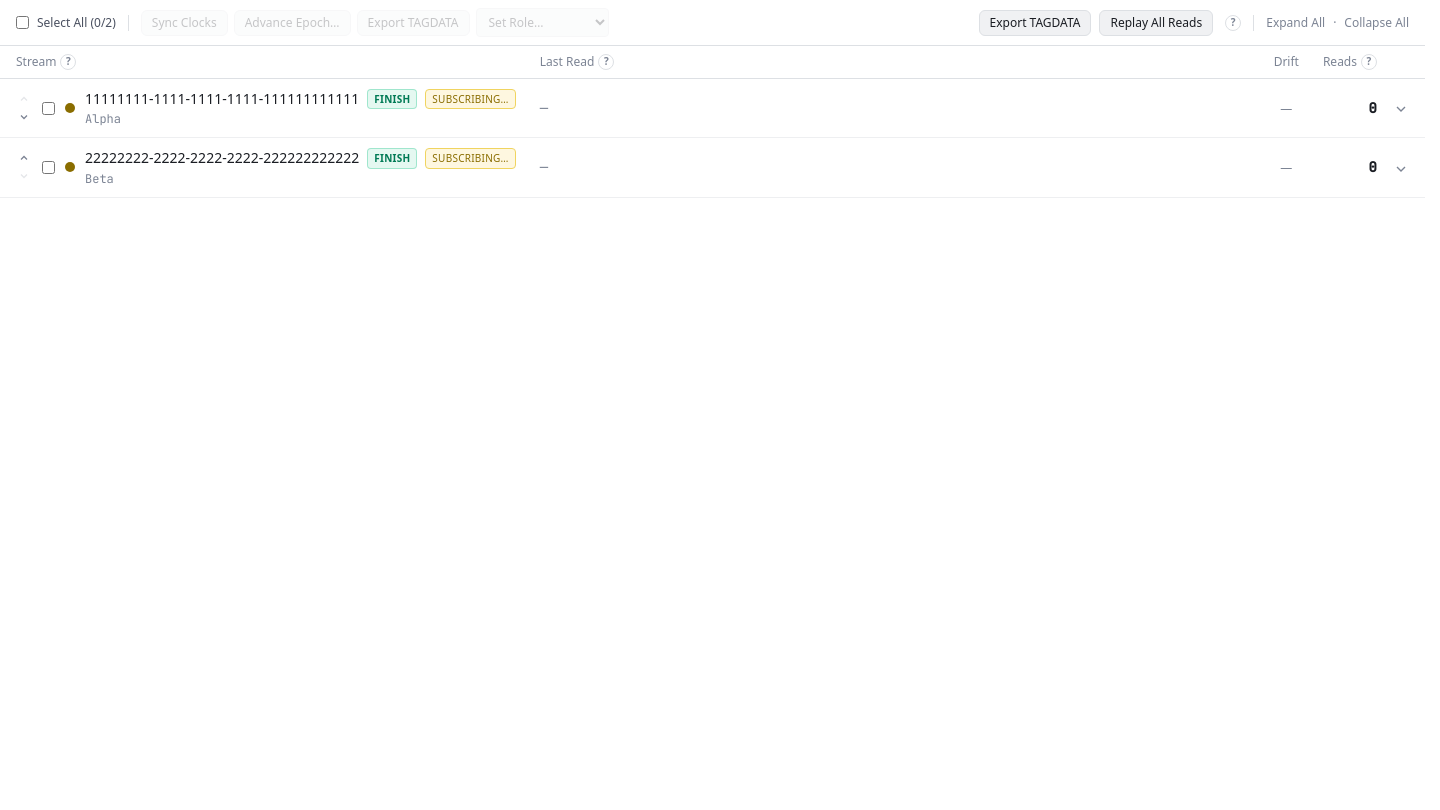
it: StreamsTab › renders canonical-only streams with distinct identity and expand state
// Expanding Alpha exposes only Alpha's canonical-keyed controls.
Click the button "11111111-1111-1111-1111-111111111111" at coordinates (222, 99), box [0,78,1425,138]
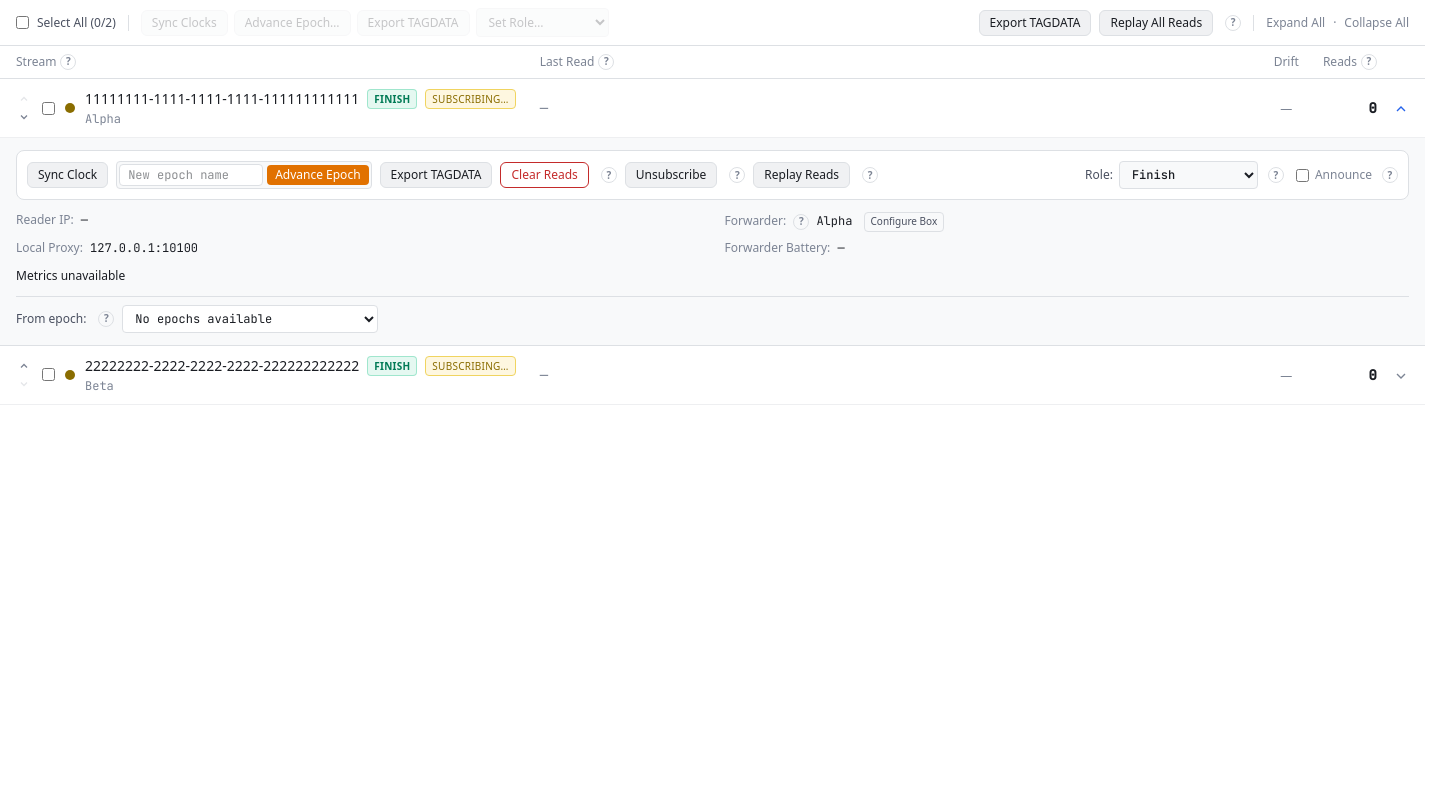
Expected: the button with test id "subscribe-toggle-endpoint-1/11111111-1111-1111-1111-111111111111" is shown, [625,162,717,188]
// Expanding Beta allows multiple streams to remain uncollapsed simultaneously.
Click the button "22222222-2222-2222-2222-222222222222" at coordinates (222, 365), box [0,346,1425,404]
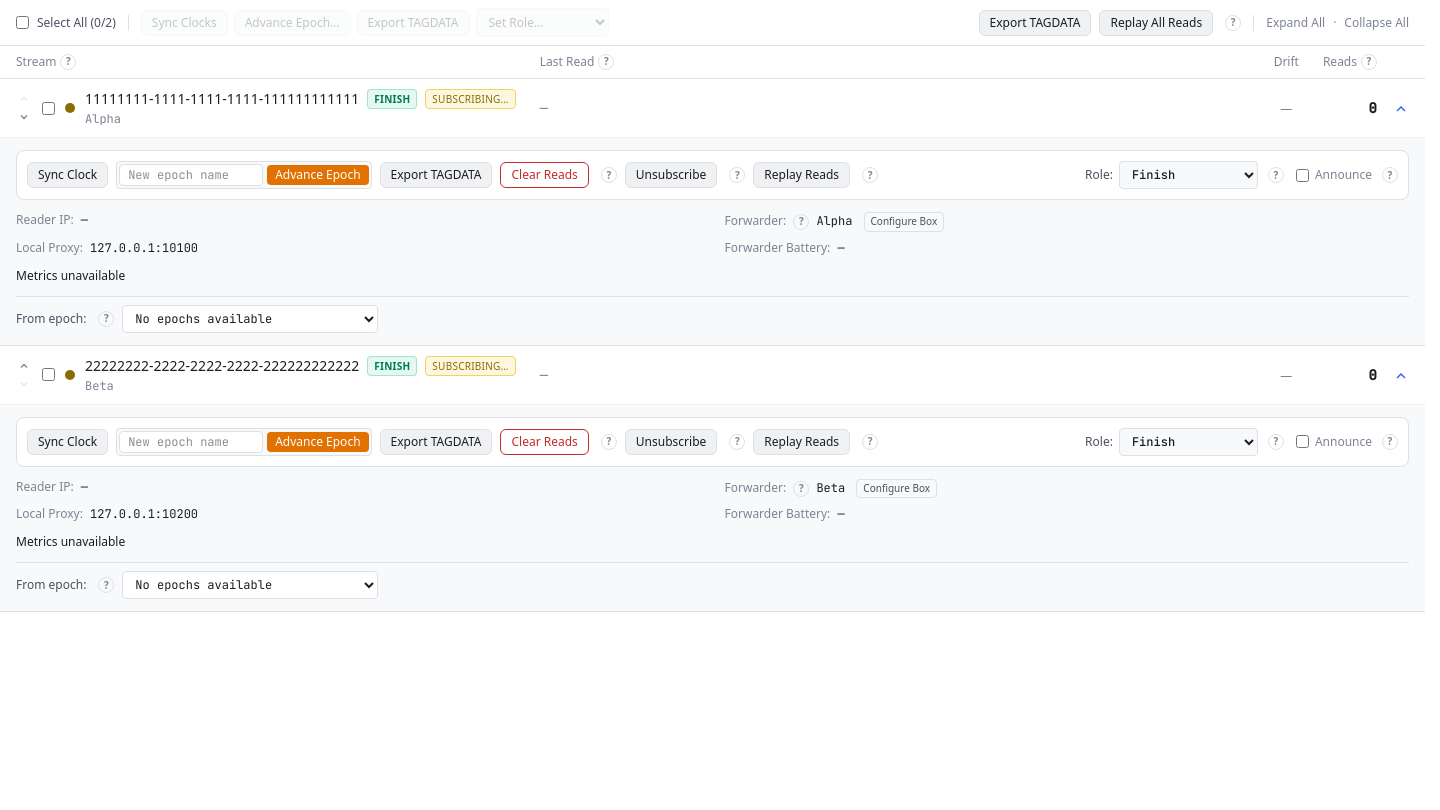
Expected: the button with test id "subscribe-toggle-endpoint-1/11111111-1111-1111-1111-111111111111" is shown, [625,162,717,188]
Expected: the button with test id "subscribe-toggle-endpoint-2/22222222-2222-2222-2222-222222222222" is shown, [625,429,717,455]
// Clicking Alpha again collapses Alpha while leaving Beta expanded.
Click the button "11111111-1111-1111-1111-111111111111" at coordinates (222, 99), box [0,78,1425,138]
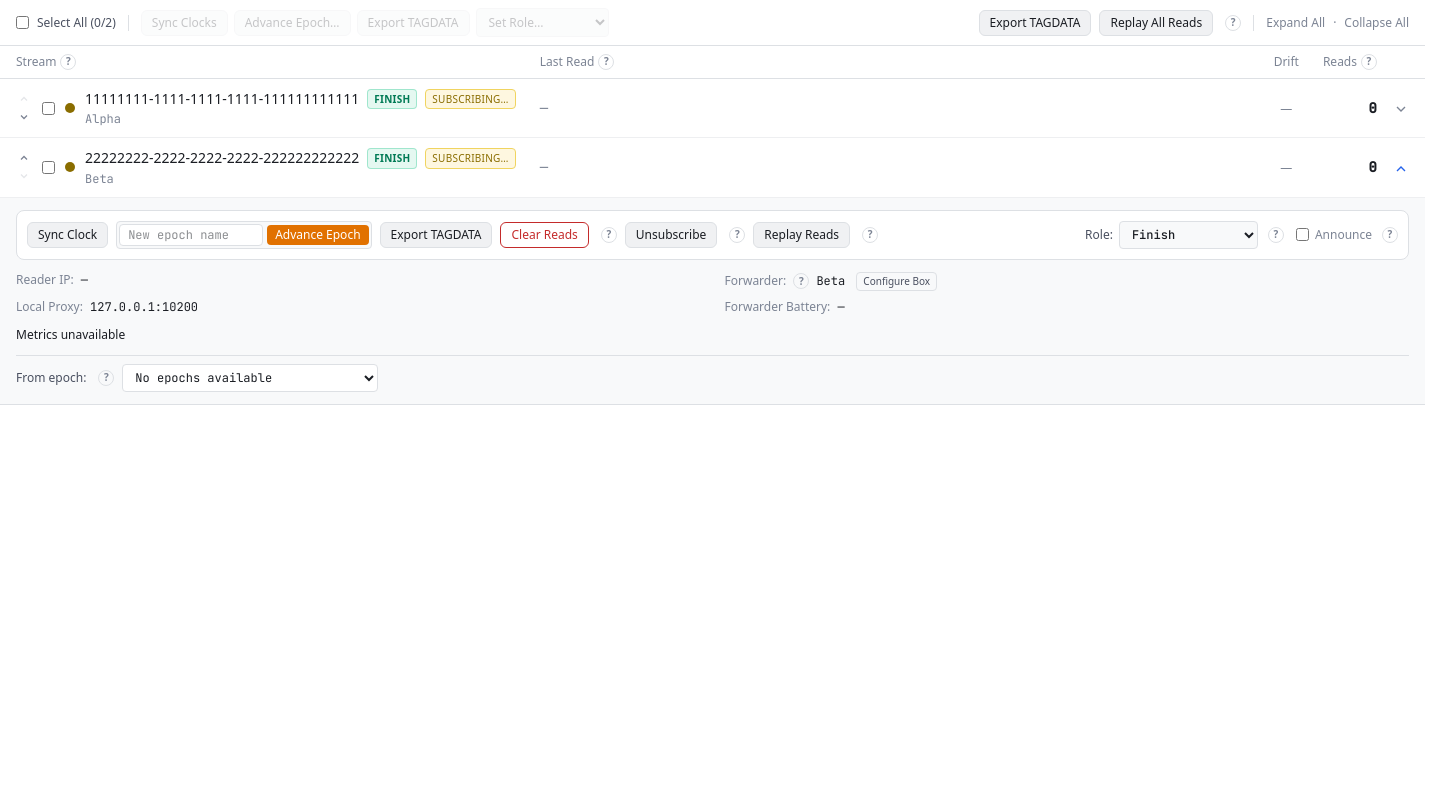
Expected: the button with test id "subscribe-toggle-endpoint-2/22222222-2222-2222-2222-222222222222" is shown, [625,222,717,248]
Expected: the button with test id "subscribe-toggle-endpoint-1/11111111-1111-1111-1111-111111111111" is gone
